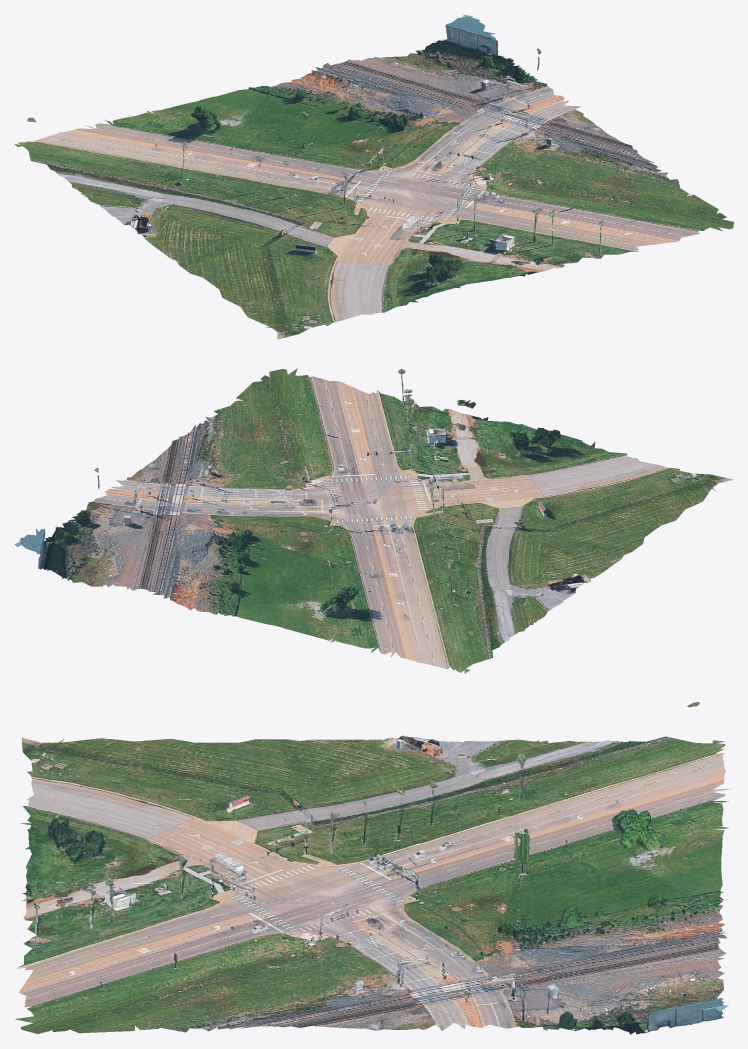
3 renders of one model, top to bottom at view 1: azimuth 30°, elevation 25°; view 2: azimuth 150°, elevation 25°; view 3: azimuth 270°, elevation 25°, orthographic. The views are drawn at different scales.
Visible parts, largest first — view 1: 20537052505340451621; view 2: 20537052505340451621; view 3: 20537052505340451621.
Part boxes in pixels (box(x1,y1,x2,y2)): 20537052505340451621: box(14, 14, 733, 339); 20537052505340451621: box(14, 368, 733, 673); 20537052505340451621: box(14, 702, 731, 1034).
Bounding box in the file's own units: 164 × 15.76 × 167.
Materials: 38 (38 with a texture image).
